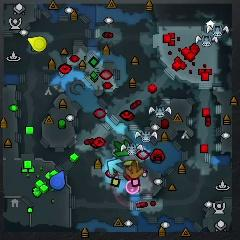Other: (126, 180, 140, 195)
p1: (49, 170, 66, 190)
p4: (28, 36, 47, 52)
x2: (124, 160, 139, 169)
x3: (108, 159, 124, 176)
x4: (114, 140, 131, 156)
x5: (125, 161, 144, 178)
